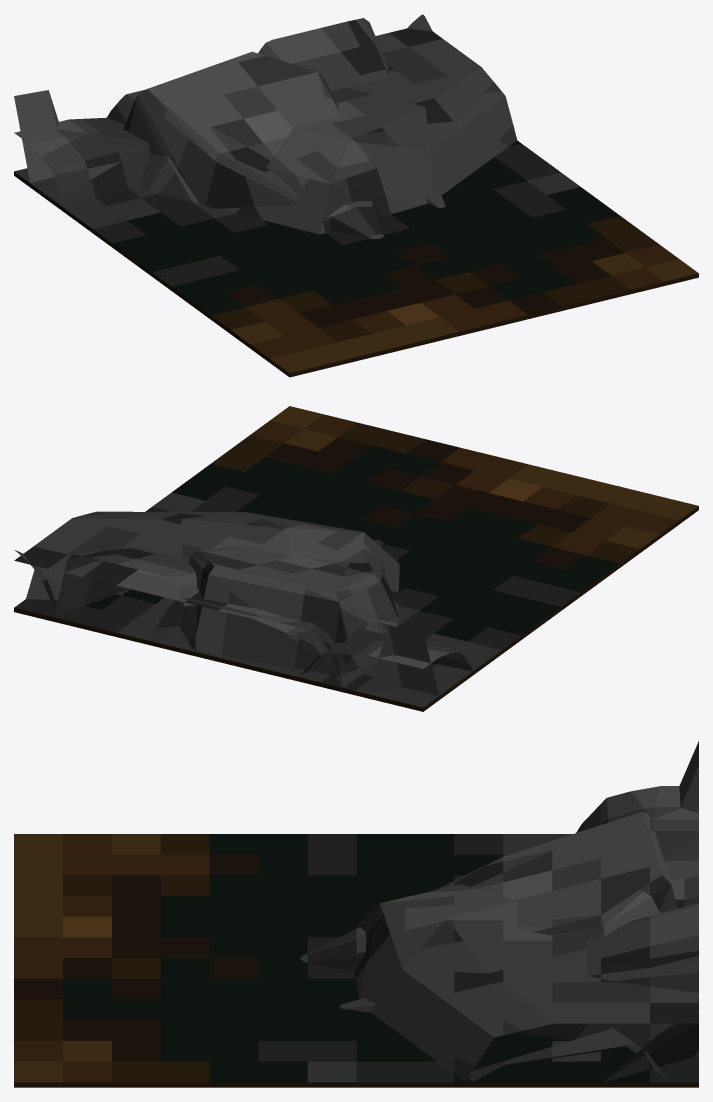
File: newshe-41.glb
3 views of the same model, one above another, from view 1: azimuth 30°, elevation 25°; view 2: azimuth 150°, elevation 25°; view 3: azimuth 270°, elevation 25° (orthographic). The views are drawn at different scales.
Parts seen in each view (by area): view 1: newshe-41; view 2: newshe-41; view 3: newshe-41.
Boxes of the visible parts, x1,y1,x2,y2 form: newshe-41: (14,14,698,377); newshe-41: (14,406,698,711); newshe-41: (14,741,698,1087).
Size of the model in its own units: 2 by 0.375 by 2.33.
